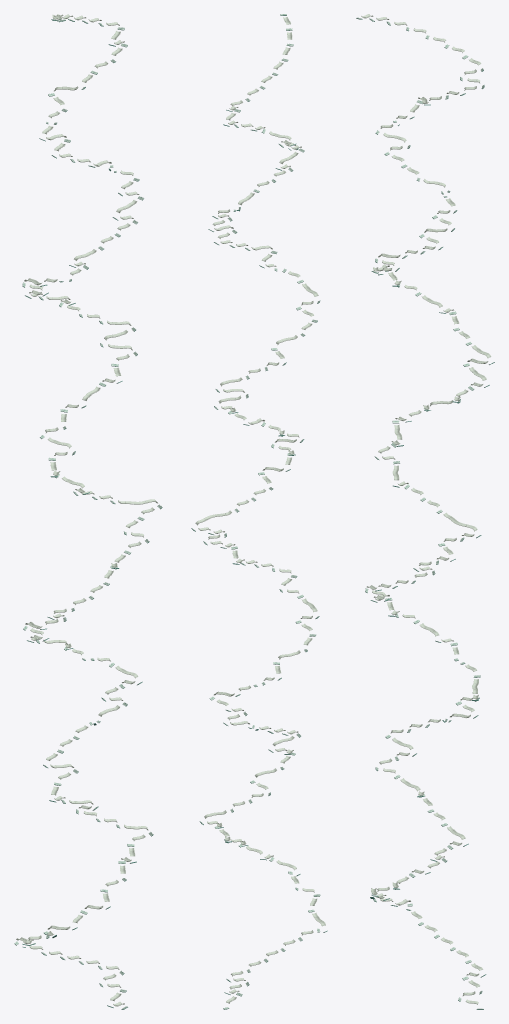
File: C-route-v027-14.glb
The picture shows the model from 3 angles, left to right: view 1: azimuth 30°, elevation 25°; view 2: azimuth 210°, elevation 25°; view 3: azimuth 330°, elevation 25°; orthographic projection. The views are drawn at different scales.
Bounding box in the file's own units: 0.4808 × 3.79 × 0.372.
5 materials, 1 textured.
